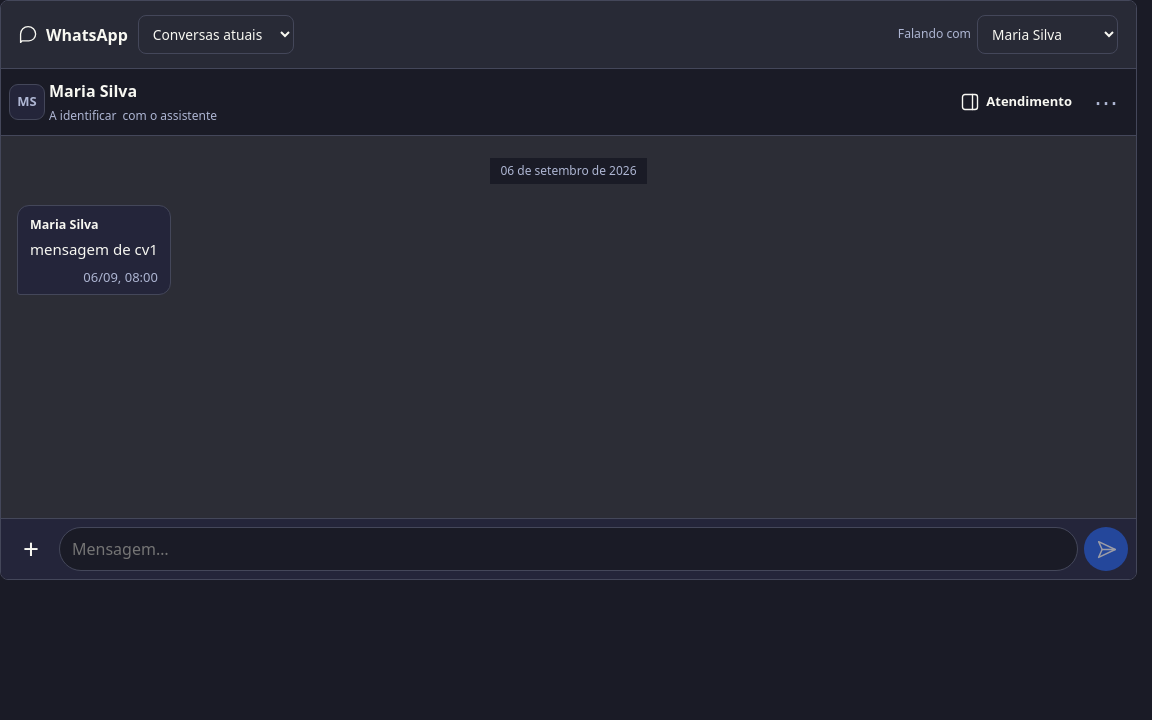
dois fios da mesma empresa — o seletor › o seletor lista somente os nomes das pessoas, e trocar abre o outro fio
The width and height of the screenshot is (1152, 720).
Select "João Financeiro" in the dropdown with test id "seletor-de-contato" at {"x": 1048, "y": 34}, box [977,15,1118,54]
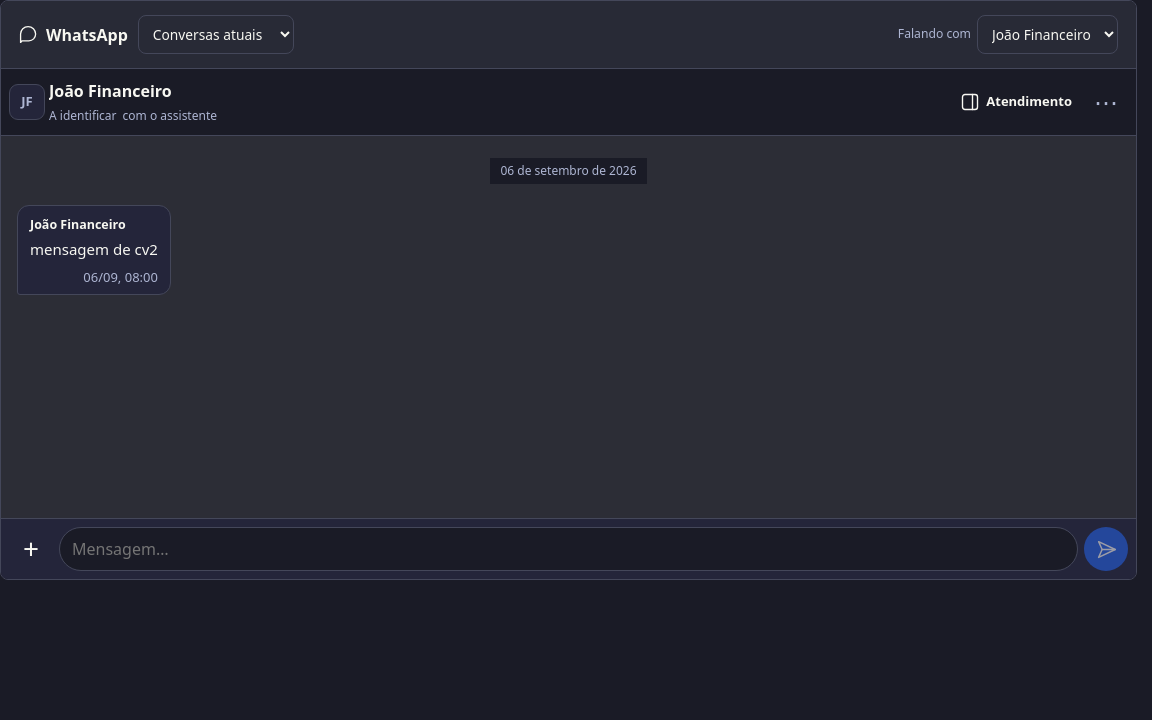
Result: the element with test id "balao-m-cv2" is shown at [17,200,171,300]
